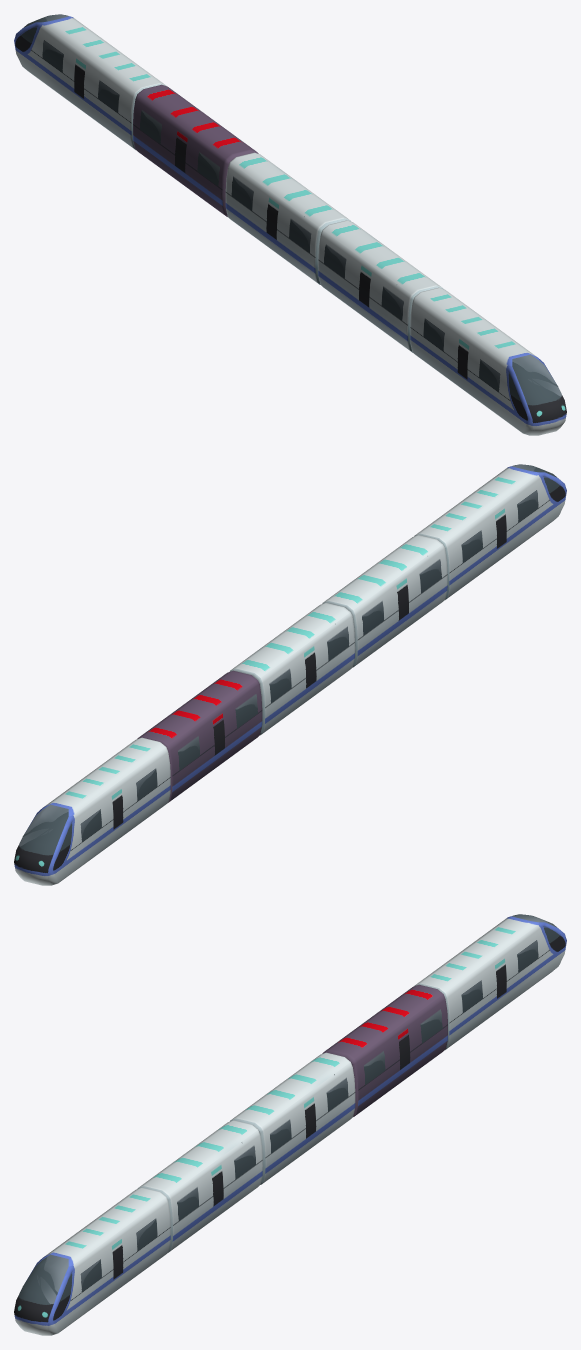
File: train_002 (1).fbx
3 renders of one model, top to bottom at view 1: azimuth 30°, elevation 25°; view 2: azimuth 150°, elevation 25°; view 3: azimuth 330°, elevation 25°, orthographic.
Visible parts, largest first — view 1: polySurface6, polySurface5, polySurface9, polySurface4, polySurface8; view 2: polySurface5, polySurface6, polySurface9, polySurface8, polySurface4; view 3: polySurface6, polySurface5, polySurface9, polySurface4, polySurface8.
Part boxes in pixels (left/top/right/bottom): polySurface6: left=410, top=287, right=566, bottom=435; polySurface5: left=14, top=14, right=166, bottom=149; polySurface9: left=225, top=152, right=350, bottom=284; polySurface4: left=133, top=84, right=258, bottom=216; polySurface8: left=318, top=220, right=443, bottom=352; polySurface5: left=14, top=737, right=170, bottom=885; polySurface6: left=414, top=464, right=566, bottom=599; polySurface9: left=229, top=603, right=355, bottom=735; polySurface8: left=322, top=535, right=447, bottom=667; polySurface4: left=137, top=670, right=262, bottom=802; polySurface6: left=14, top=1187, right=170, bottom=1335; polySurface5: left=414, top=914, right=566, bottom=1049; polySurface9: left=230, top=1052, right=355, bottom=1184; polySurface4: left=322, top=984, right=447, bottom=1116; polySurface8: left=137, top=1120, right=262, bottom=1252.
Size of the model in its own units: 288 by 419 by 6545.
